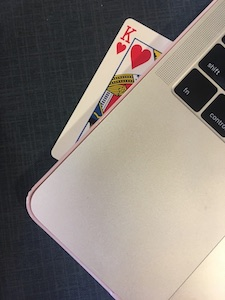KingOfHearts: (46, 17, 177, 160)
